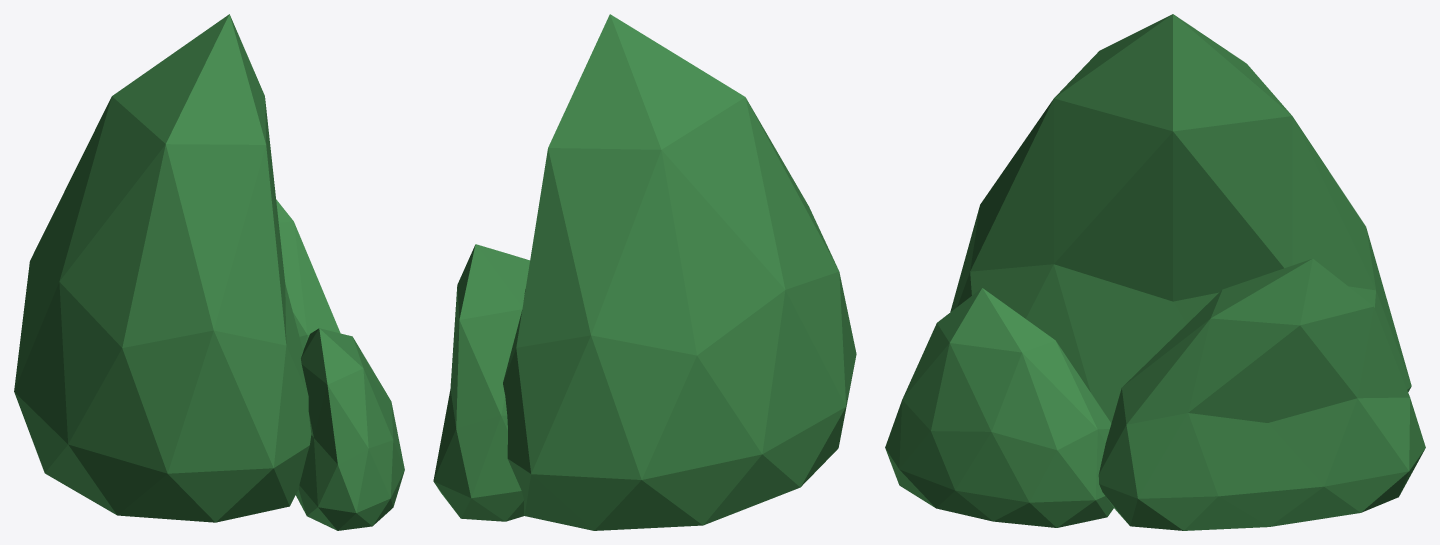
File: Bush_02.fbx
The picture shows the model from 3 angles, left to right: view 1: azimuth 30°, elevation 25°; view 2: azimuth 150°, elevation 25°; view 3: azimuth 270°, elevation 25°; orthographic projection. The views are drawn at different scales.
Parts seen in each view (by area): view 1: Bush_02; view 2: Bush_02; view 3: Bush_02.
Boxes of the visible parts, x1=… form: Bush_02: x1=14, y1=14, x2=404, y2=530; Bush_02: x1=433, y1=14, x2=856, y2=530; Bush_02: x1=885, y1=14, x2=1425, y2=530.
Size of the model in its own units: 39.57 by 52.76 by 54.91.
